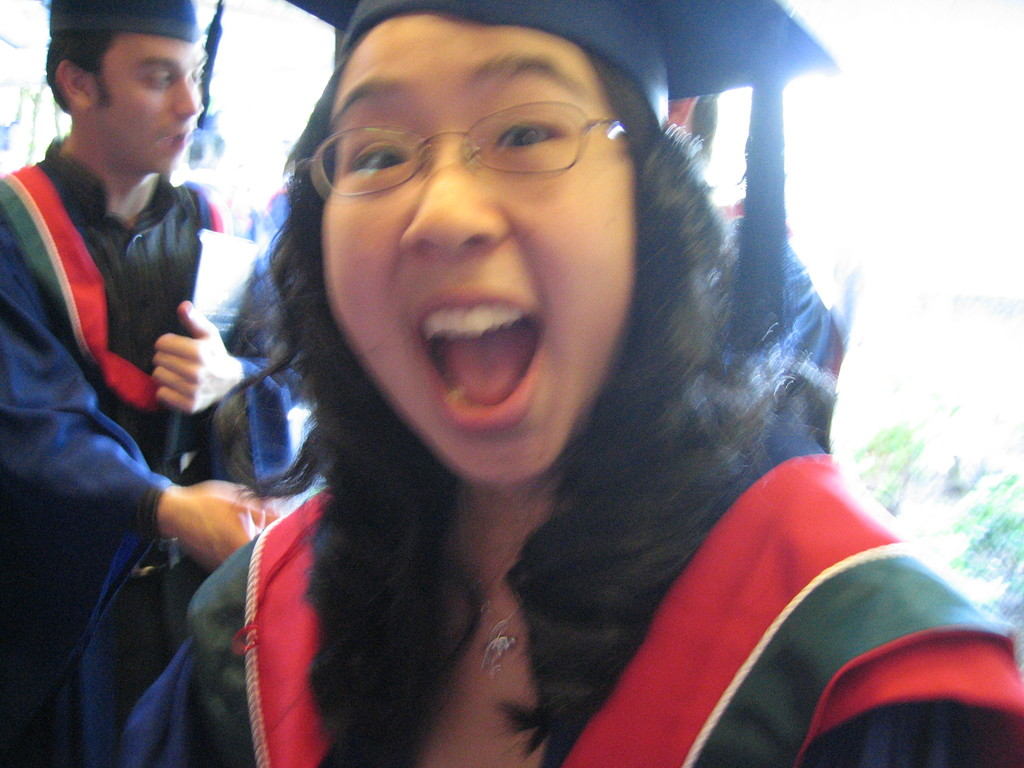Human_hand: (150, 301, 240, 422), (131, 480, 250, 562)
